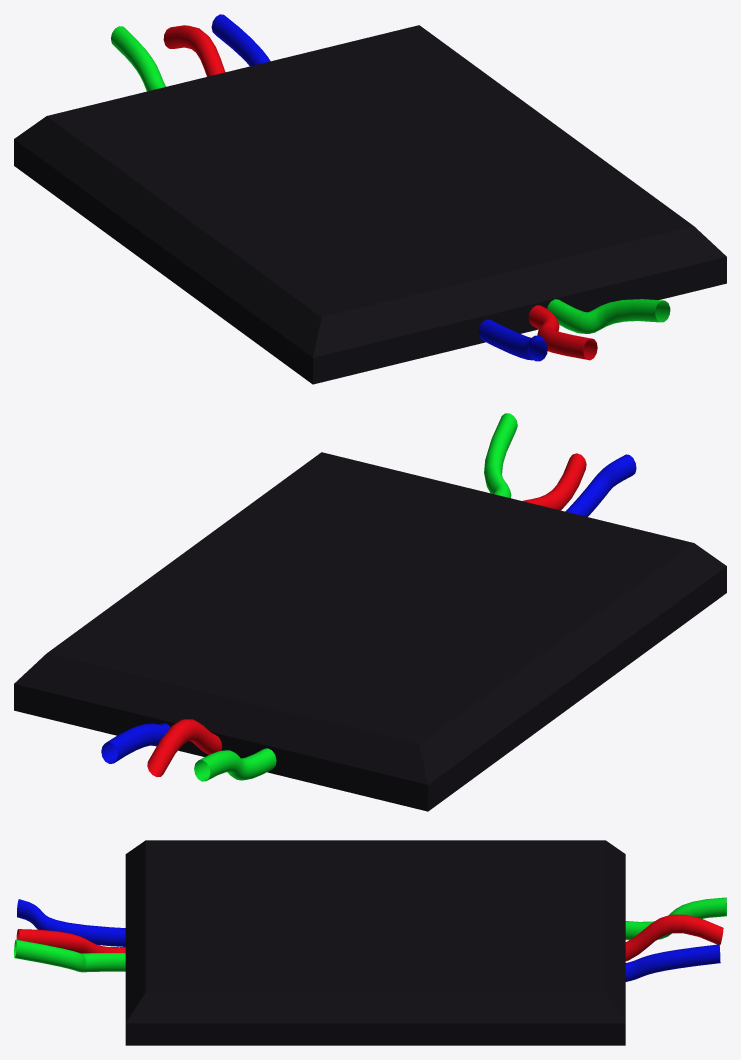
Rendered from slot2.fbx.
3 renders of one model, top to bottom at view 1: azimuth 30°, elevation 25°; view 2: azimuth 150°, elevation 25°; view 3: azimuth 270°, elevation 25°, orthographic. The views are drawn at different scales.
Parts seen in each view (by area): view 1: Cube.002, BezierCurve.012, BezierCurve.014, BezierCurve.013, BezierCurve.017, BezierCurve.015, BezierCurve.016; view 2: Cube.002, BezierCurve.017, BezierCurve.015, BezierCurve.013, BezierCurve.012, BezierCurve.016, BezierCurve.014; view 3: Cube.002, BezierCurve.012, BezierCurve.017, BezierCurve.016, BezierCurve.013, BezierCurve.014, BezierCurve.015.
Boxes of the visible parts, x1,y1,x2,y2 form: Cube.002: (14, 25, 726, 384); BezierCurve.012: (547, 299, 670, 333); BezierCurve.014: (528, 305, 597, 360); BezierCurve.013: (478, 319, 547, 361); BezierCurve.017: (163, 25, 225, 76); BezierCurve.015: (111, 26, 165, 91); BezierCurve.016: (211, 14, 270, 66); Cube.002: (14, 452, 726, 811); BezierCurve.017: (147, 719, 222, 776); BezierCurve.015: (194, 748, 276, 781); BezierCurve.013: (565, 454, 636, 516); BezierCurve.012: (484, 413, 517, 498); BezierCurve.016: (101, 723, 170, 763); BezierCurve.014: (522, 453, 586, 510); Cube.002: (125, 840, 625, 1045); BezierCurve.012: (14, 939, 125, 972); BezierCurve.017: (625, 914, 723, 961); BezierCurve.016: (625, 944, 720, 981); BezierCurve.013: (17, 899, 125, 946); BezierCurve.014: (16, 929, 125, 953); BezierCurve.015: (625, 897, 726, 939).
Bounding box in the file's own units: 4.05 × 0.6131 × 7.22.
